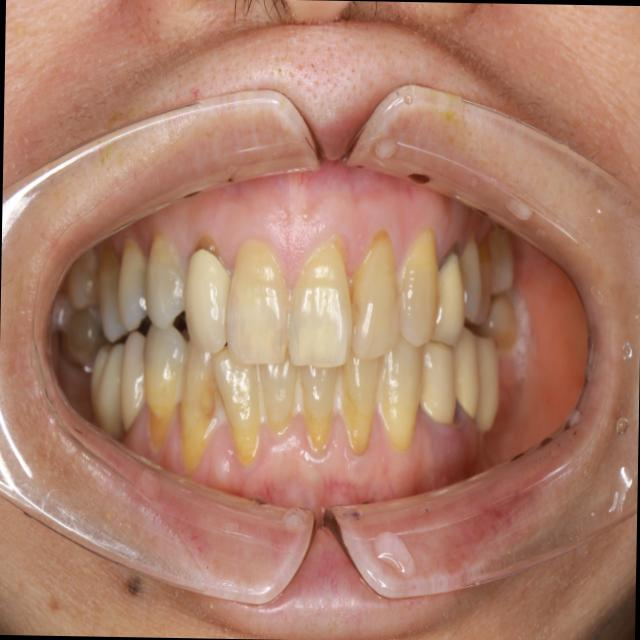tooth: (279, 224, 366, 378), (218, 234, 300, 377), (340, 227, 410, 366), (171, 329, 227, 480), (386, 219, 447, 355), (208, 338, 272, 465), (177, 225, 235, 364), (137, 311, 186, 462), (334, 342, 387, 467), (289, 354, 346, 467), (252, 334, 305, 451), (138, 226, 192, 337), (375, 338, 424, 456), (422, 242, 470, 360), (413, 332, 465, 436), (81, 336, 132, 437), (111, 228, 153, 336), (445, 320, 484, 433), (113, 327, 150, 442), (450, 225, 488, 332), (91, 248, 131, 348), (480, 217, 525, 302), (469, 329, 504, 437), (61, 236, 103, 319), (62, 306, 105, 373), (478, 292, 522, 352), (474, 230, 497, 336), (48, 292, 76, 335)
